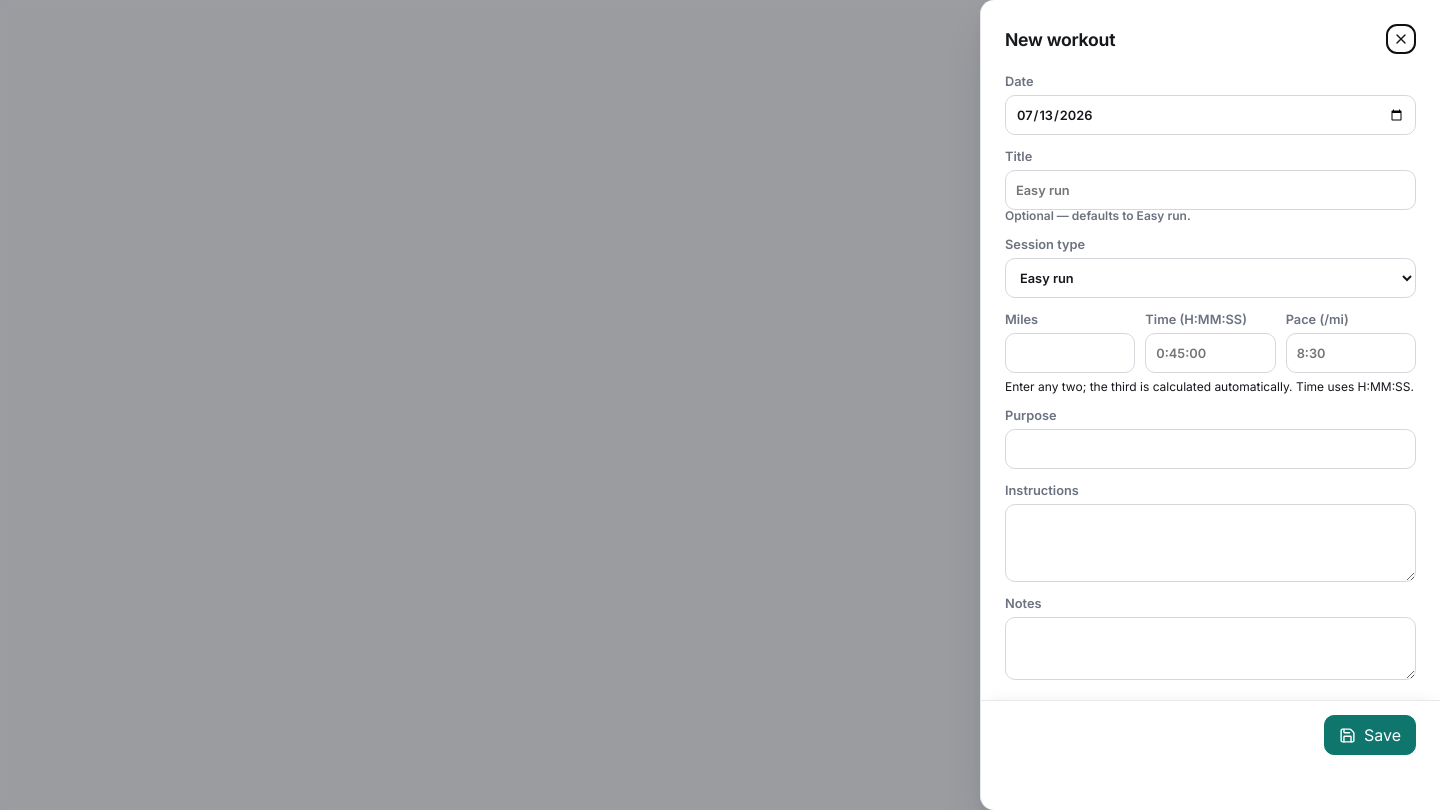
Test case: WorkoutEditor › calculates pace from miles and time
Step 1. Type "6" into the number field labelled "Miles" → x=1070, y=353, box left=1005, top=333, right=1135, bottom=373
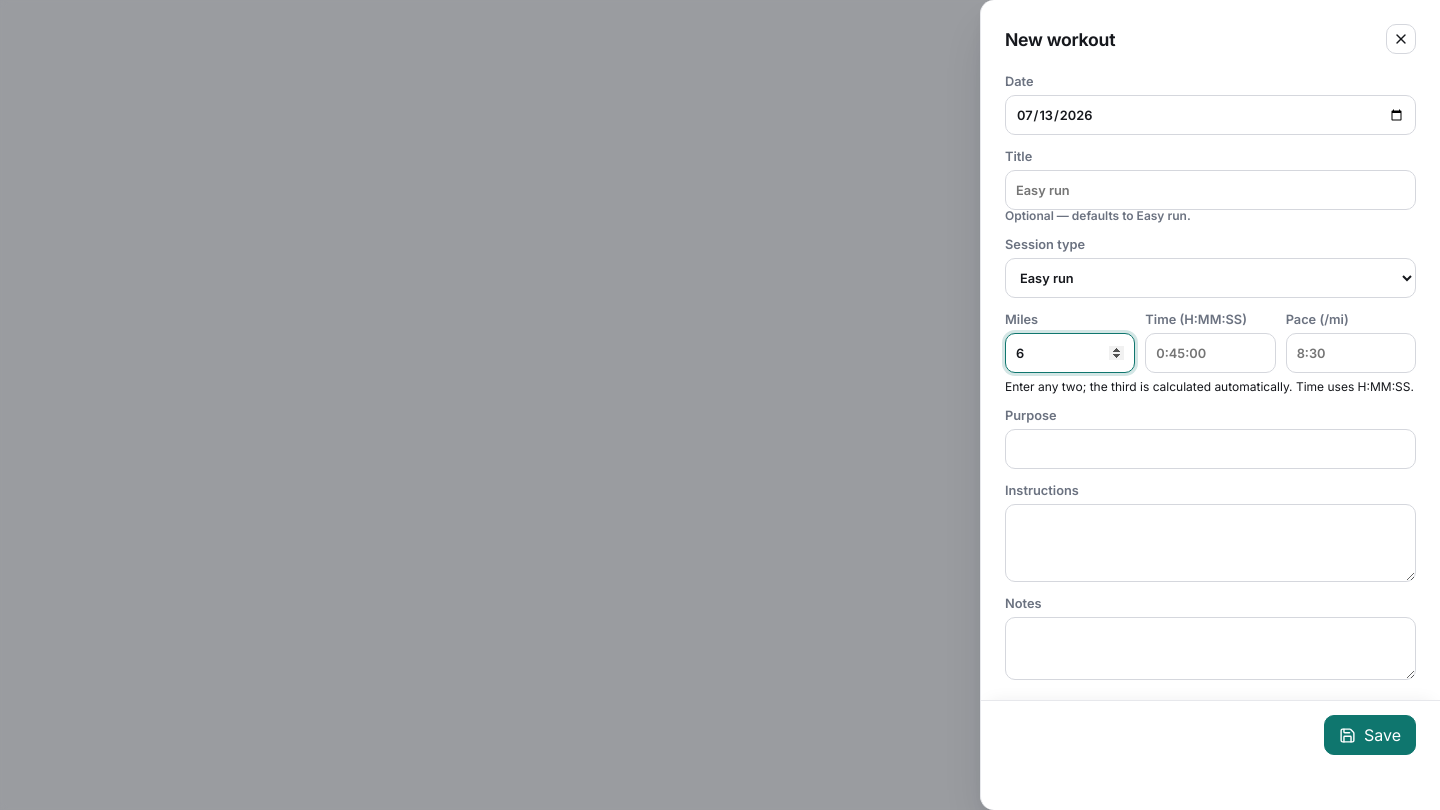
Step 2. Type "0:48:00" into the field labelled "Time (H:MM:SS)" → x=1210, y=353, box left=1145, top=333, right=1276, bottom=373
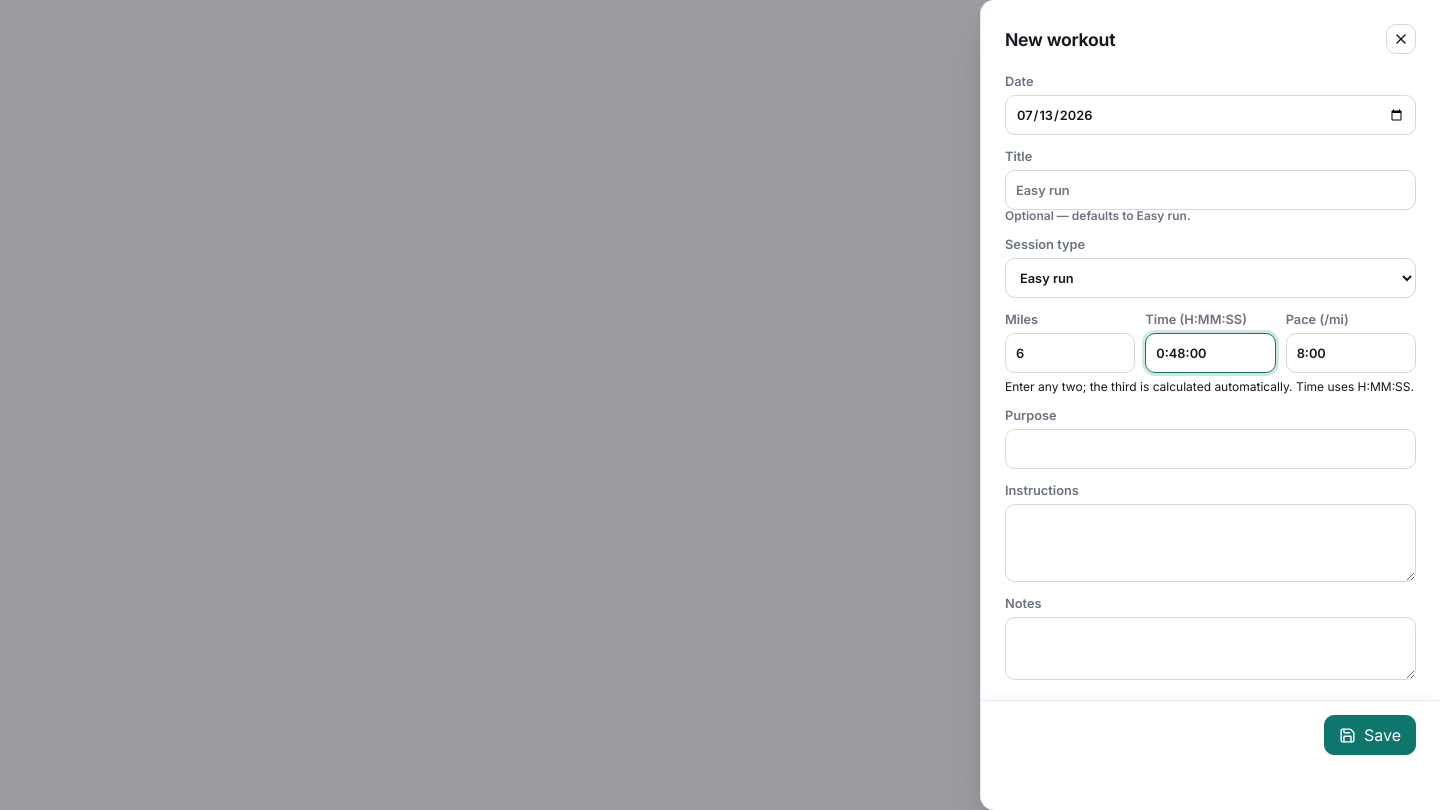
Expected: the field labelled "Pace (/mi)" holds "8:00", left=1286, top=333, right=1416, bottom=373
